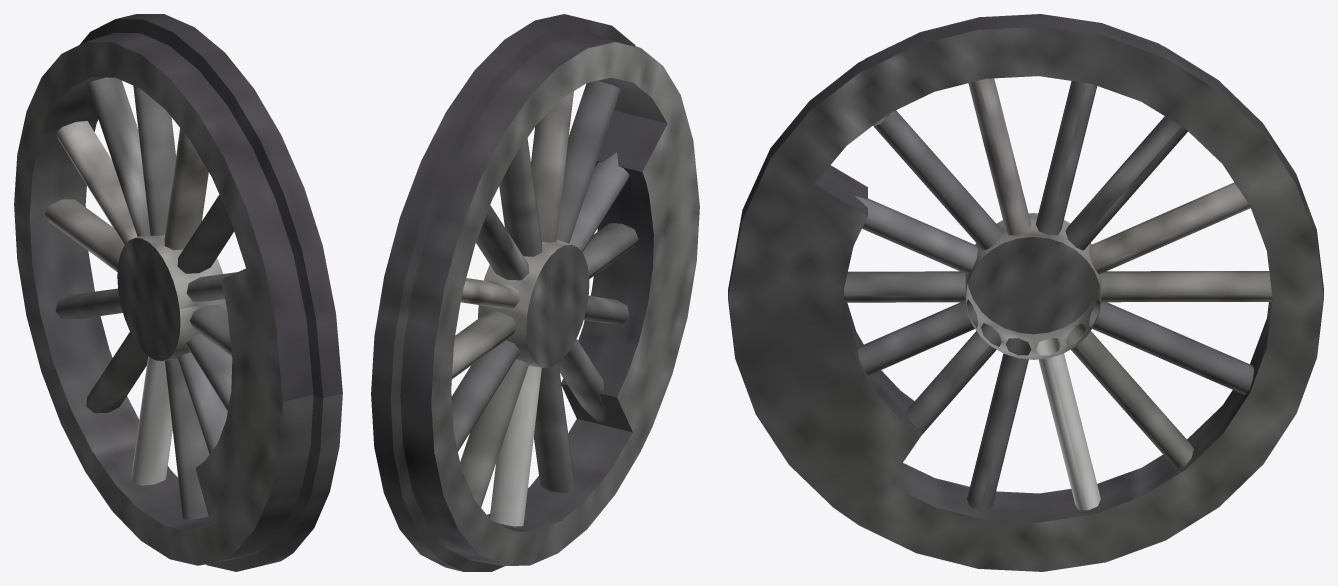
The model's file is RuedaDer3.obj.
3 renders of one model, left to right at view 1: azimuth 30°, elevation 25°; view 2: azimuth 150°, elevation 25°; view 3: azimuth 270°, elevation 25°, orthographic. The views are drawn at different scales.
Visible parts, largest first — view 1: RuedaDer3; view 2: RuedaDer3; view 3: RuedaDer3.
Part boxes in pixels (x1=…): RuedaDer3: x1=14, y1=14, x2=342, y2=571; RuedaDer3: x1=371, y1=14, x2=699, y2=571; RuedaDer3: x1=728, y1=14, x2=1323, y2=571.
Bounding box in the file's own units: 0.0446 × 0.3902 × 0.3867.
1 material, 1 textured.
